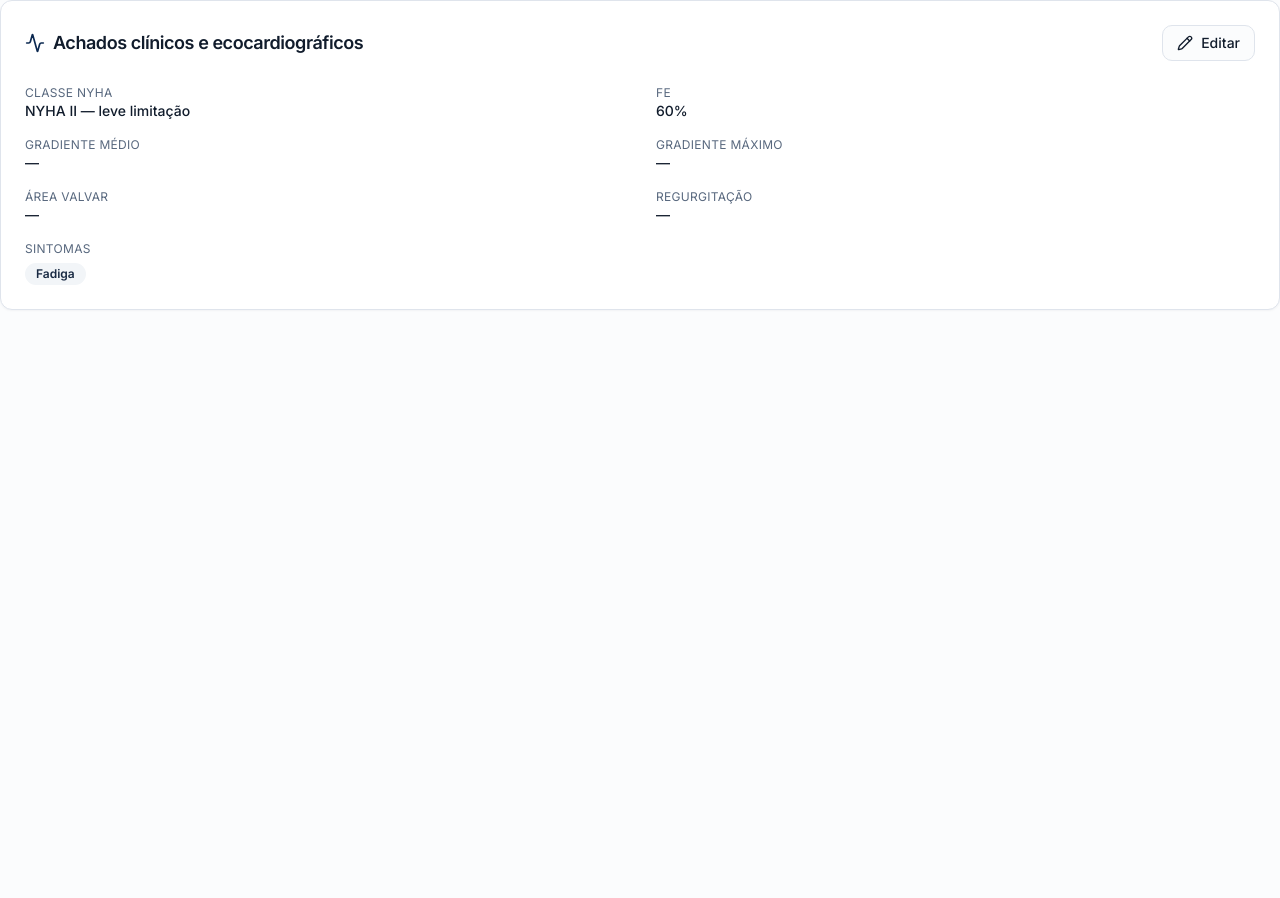
CaseFindingsEditor › preenche as medidas a partir do exame e não salva nada sozinho
What coordinates should you click on to do the following:
click the button "Editar"
I would click on:
 (1209, 43)
Its box is [1162,25,1255,61].
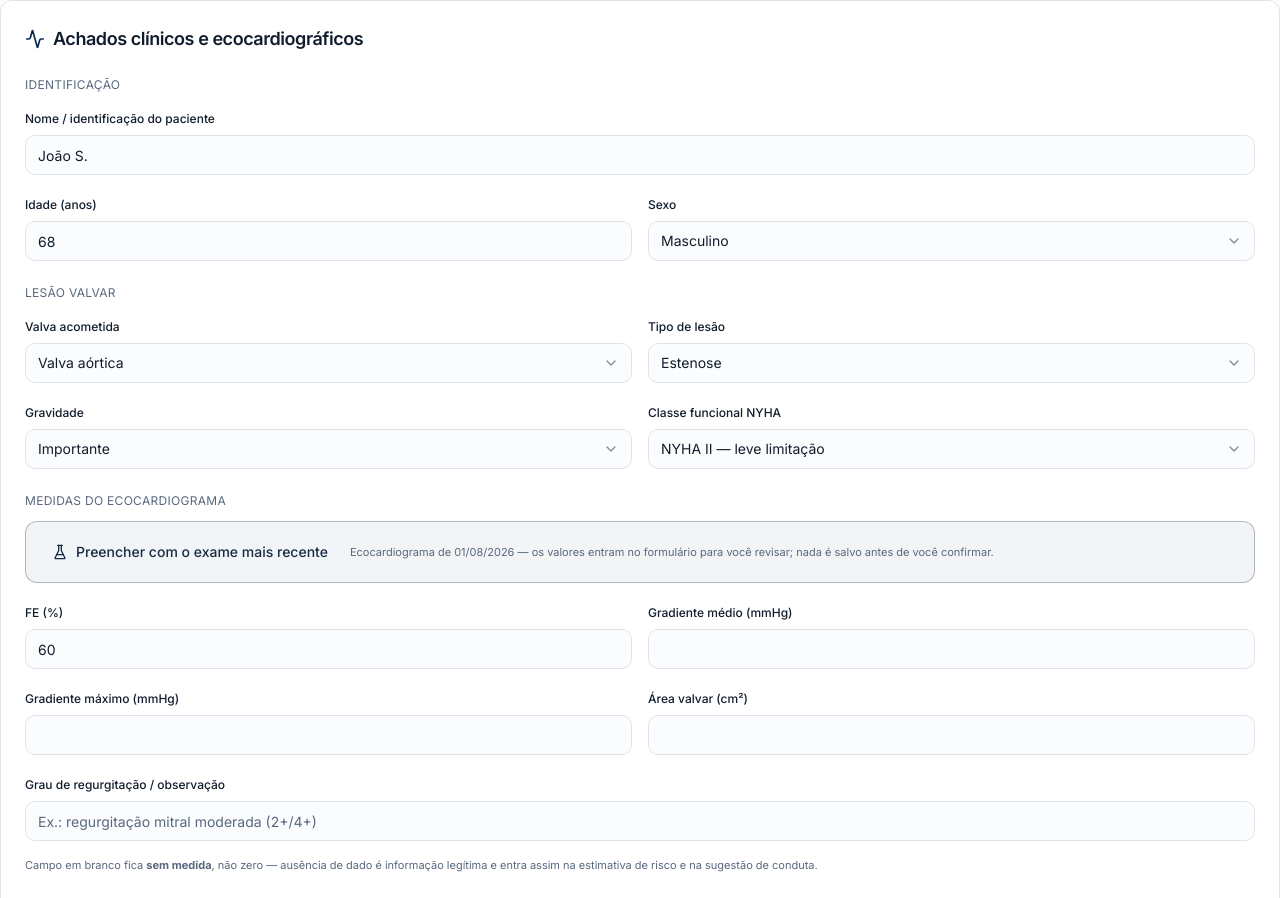
Now the button "Preencher com o exame mais recente" is enabled
What coordinates should you click on to do the following:
click the button "Preencher com o exame mais recente"
I would click on:
 (190, 552)
Its box is [38,534,342,570].
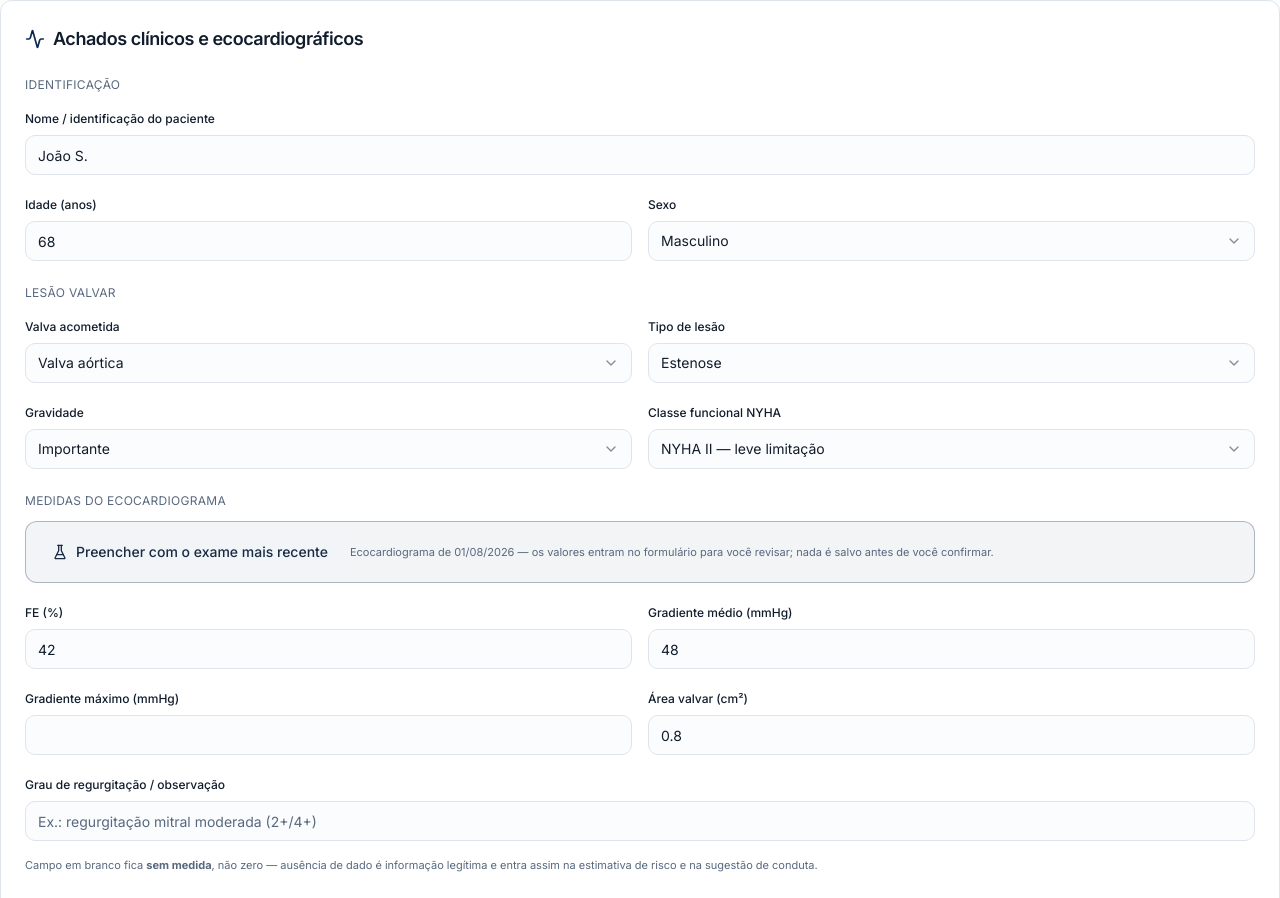
Now the number field showing "42" below "FE (%)" is shown, box [25,629,632,669]
Now the number field showing "48" below "Gradiente médio (mmHg)" is shown, box [648,629,1255,669]
Now the number field showing "0.8" below "Área valvar (cm²)" is shown, box [648,715,1255,755]
